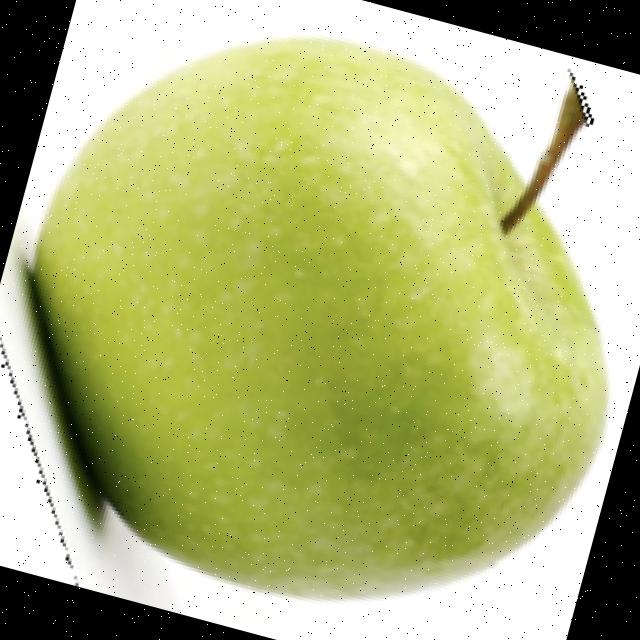apple: (0, 31, 614, 611)
